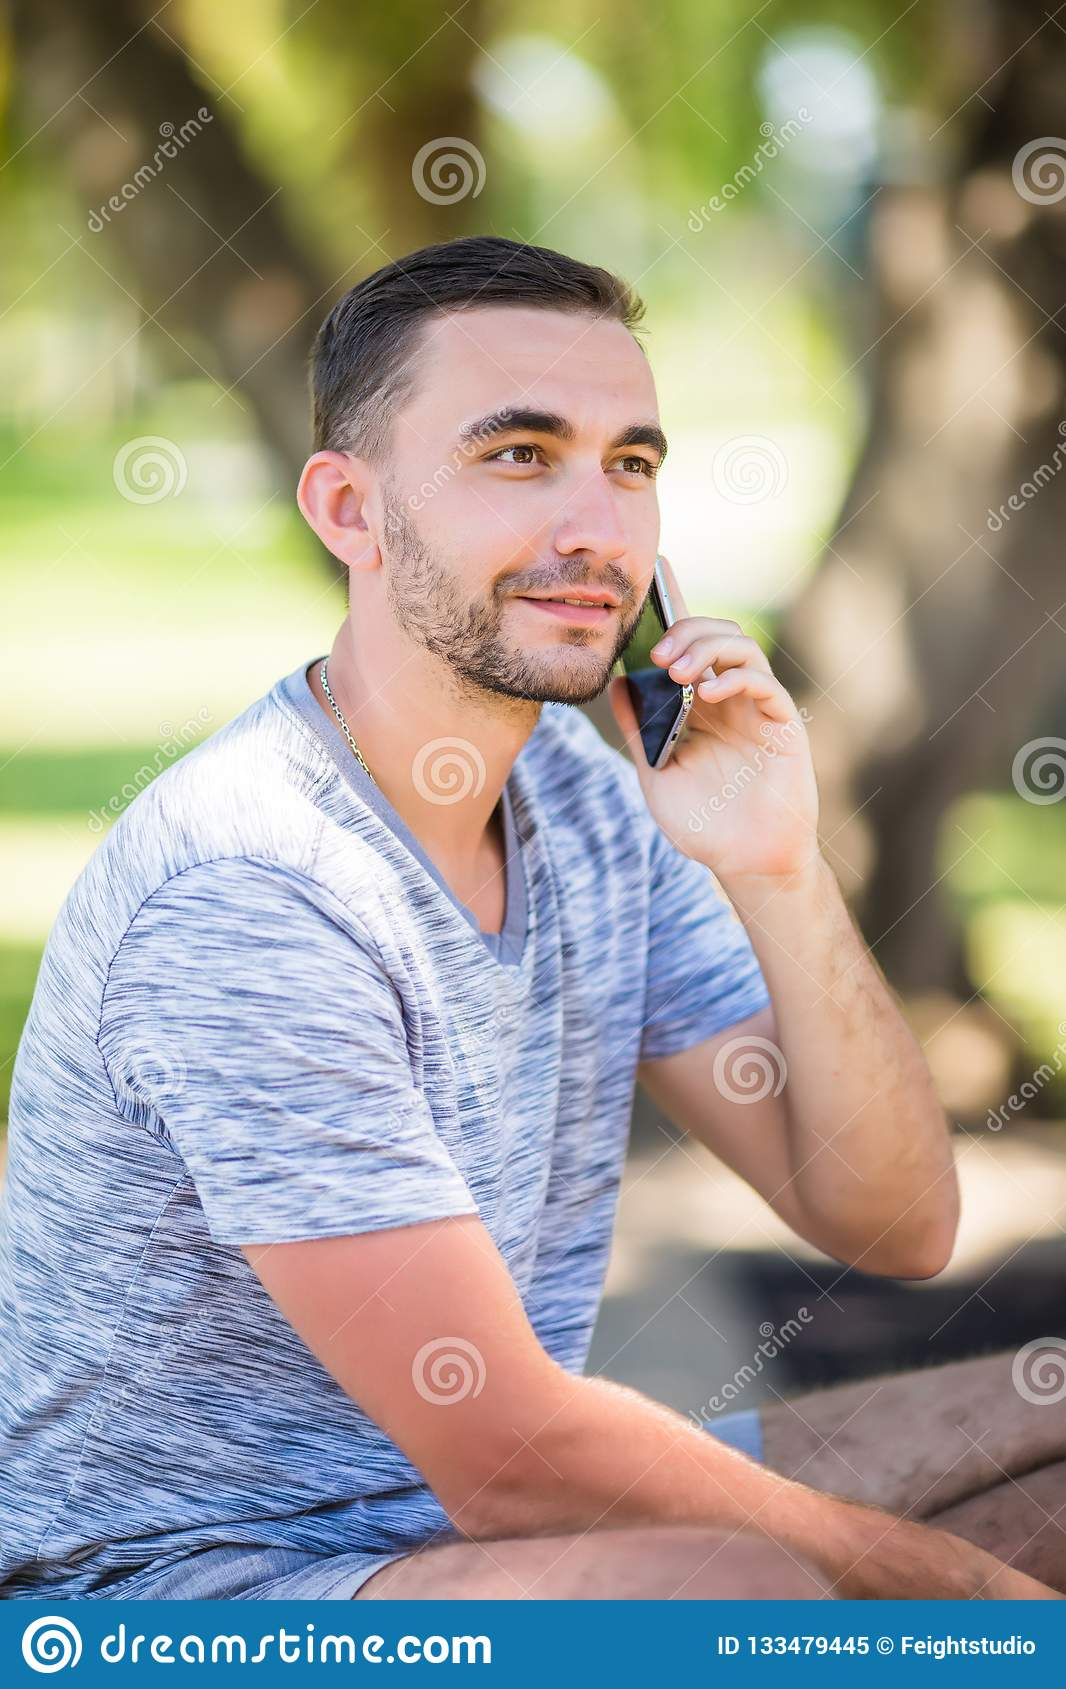phone: (615, 551, 707, 766)
talk: (447, 396, 818, 899)
